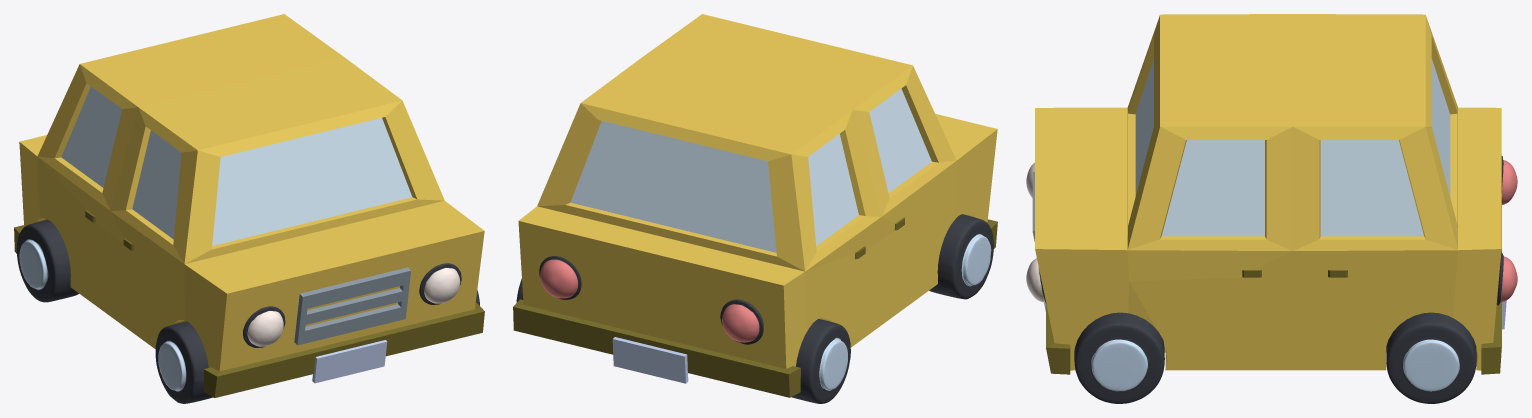
The model's file is yellow_car(1).fbx.
3 views of the same model, side by side, from view 1: azimuth 30°, elevation 25°; view 2: azimuth 150°, elevation 25°; view 3: azimuth 270°, elevation 25° (orthographic). The views are drawn at different scales.
Parts seen in each view (by area): view 1: car, wheels, plate; view 2: car, wheels, plate; view 3: car, wheels.
Part boxes in pixels (x1,y1,x2,y2): car: (14,14,484,397); wheels: (16,219,479,403); plate: (294,267,410,383); car: (513,14,997,397); wheels: (516,214,993,403); plate: (612,337,688,383); car: (1035,14,1501,374); wheels: (1026,156,1517,403).
Bounding box in the file's own units: 235 × 173 × 300.
